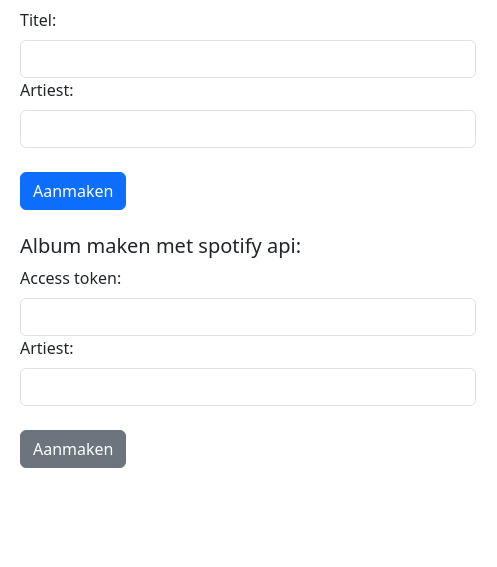
it: Add Album Form › should show an error message on form submission failure
This screenshot has width=497, height=567.
Step 1. Type "Error Album" into the field with test id "album-title" → coordinates (248, 59), box [20,40,476,78]
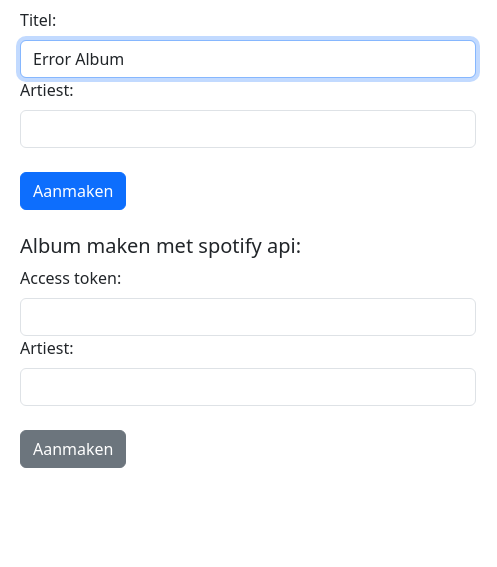
Step 2. Type "Error Artist" into the field with test id "album-artist" → coordinates (248, 129), box [20,110,476,148]
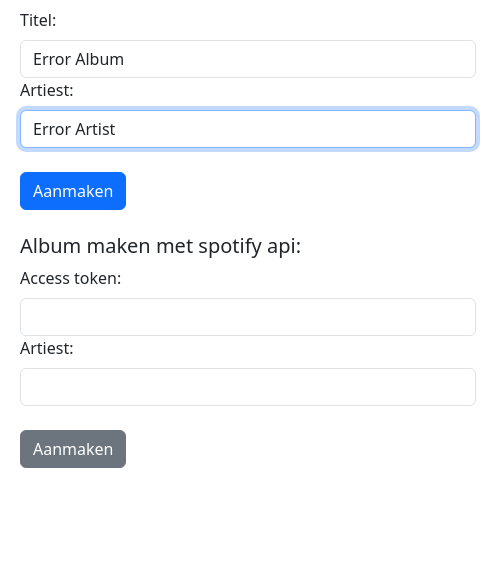
Step 3. Submit the form with test id "add-album-form", box [20,8,476,210]
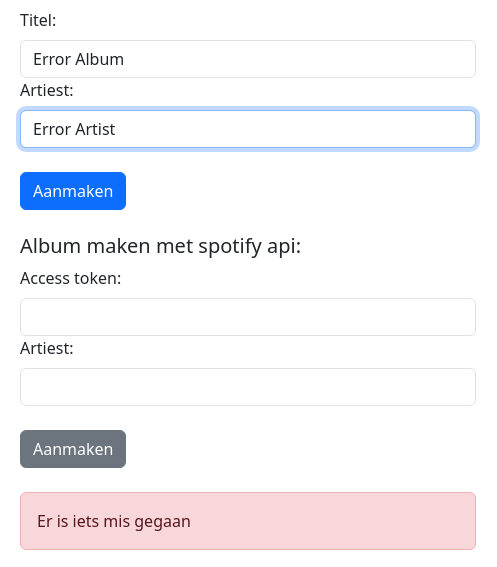
Expected: the text "Er is iets mis gegaan" is shown, [20,492,476,550]
